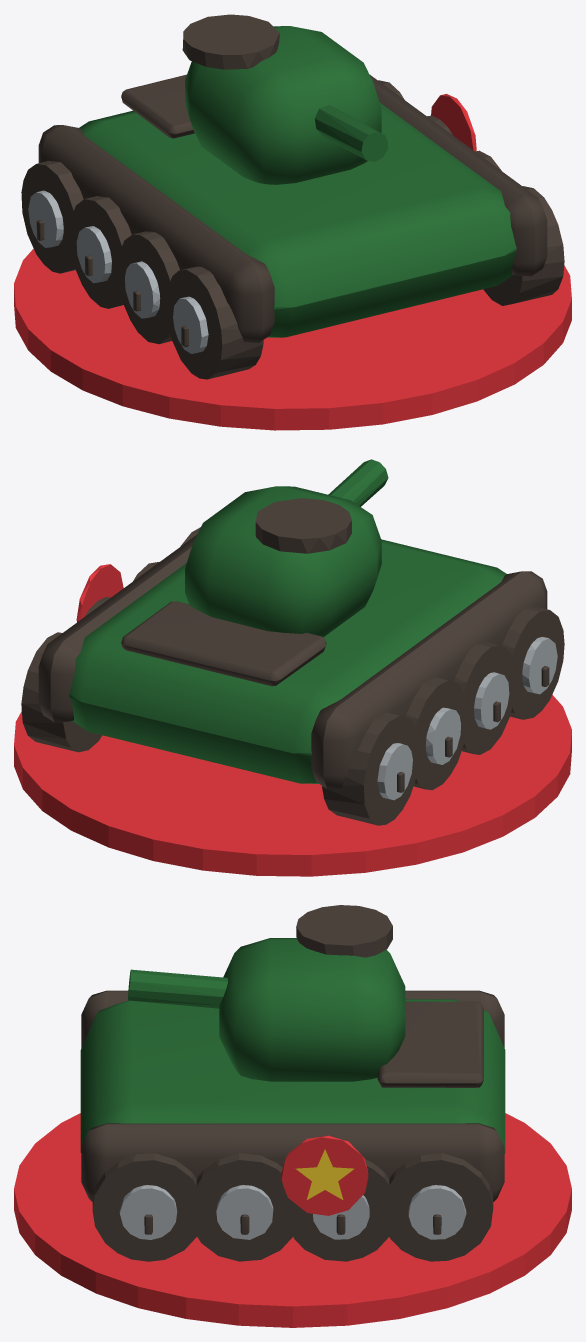
The model's file is vietnam_infantry_lod0.glb.
3 renders of one model, top to bottom at view 1: azimuth 30°, elevation 25°; view 2: azimuth 150°, elevation 25°; view 3: azimuth 270°, elevation 25°, orthographic.
Visible parts, largest first — view 1: body_hull, base_pedestal; view 2: body_hull, base_pedestal; view 3: body_hull, base_pedestal.
Boxes of the visible parts, <box> form: body_hull: <box>21,14,564,379</box>; base_pedestal: <box>14,249,571,430</box>; body_hull: <box>21,459,564,825</box>; base_pedestal: <box>14,695,571,876</box>; body_hull: <box>80,905,505,1261</box>; base_pedestal: <box>14,1113,571,1327</box>.
Size of the model in its own units: 0.78 by 0.412 by 0.78.
